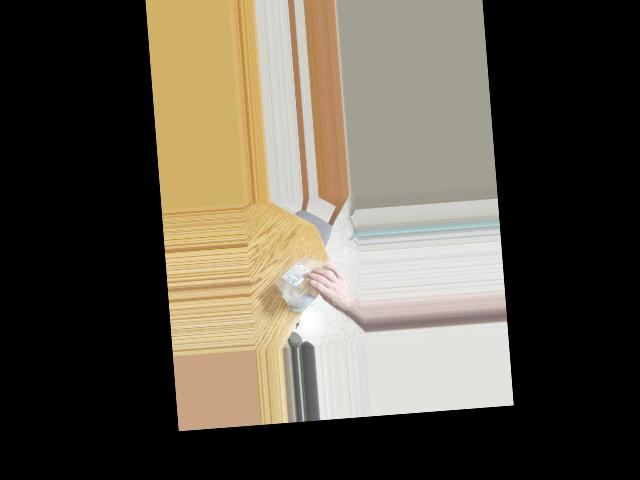cheese: (273, 254, 341, 311)
